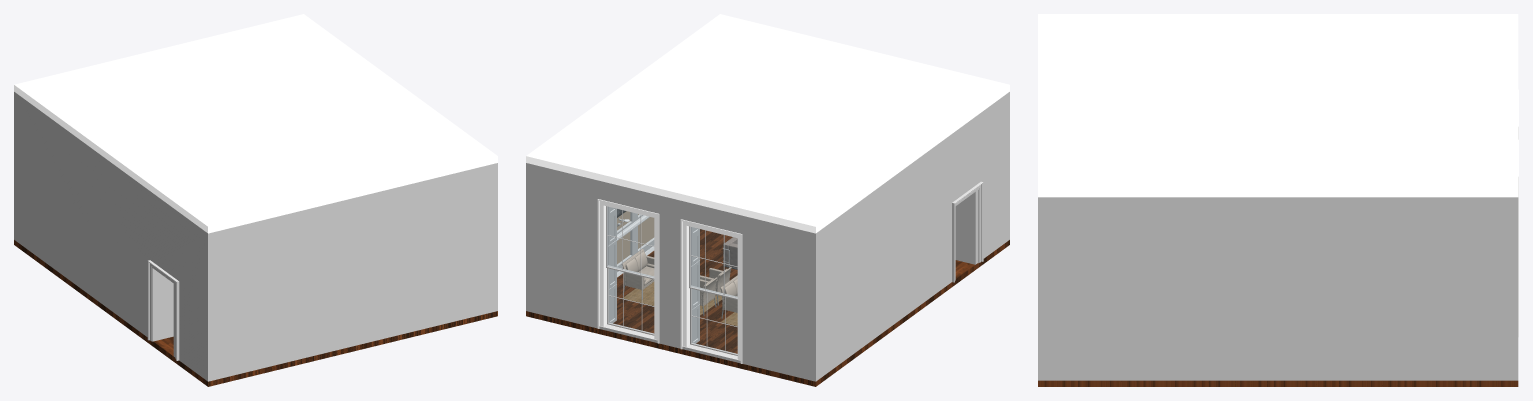
Rendered from habitacion.glb.
The picture shows the model from 3 angles, left to right: view 1: azimuth 30°, elevation 25°; view 2: azimuth 150°, elevation 25°; view 3: azimuth 270°, elevation 25°; orthographic projection. The views are drawn at different scales.
Visible parts, largest first — view 1: wall, ceiling, Box02, door frame02; view 2: ceiling, wall, win05, win06, Box02, door frame02, Box5038, Box5039, Box5036, Box08; view 3: wall, ceiling, Box02.
Part boxes in pixels (x1=…): wall: x1=14, y1=92, x2=497, y2=381; ceiling: x1=14, y1=14, x2=497, y2=233; Box02: x1=14, y1=240, x2=497, y2=386; door frame02: x1=147, y1=260, x2=179, y2=360; ceiling: x1=526, y1=14, x2=1009, y2=233; wall: x1=526, y1=92, x2=1009, y2=381; win05: x1=597, y1=199, x2=659, y2=343; win06: x1=680, y1=219, x2=742, y2=363; Box02: x1=526, y1=229, x2=1009, y2=386; door frame02: x1=952, y1=181, x2=983, y2=282; Box5038: x1=621, y1=249, x2=654, y2=289; Box5039: x1=622, y1=281, x2=721, y2=315; Box5036: x1=720, y1=275, x2=737, y2=312; Box08: x1=723, y1=237, x2=737, y2=269; wall: x1=1038, y1=197, x2=1518, y2=380; ceiling: x1=1038, y1=14, x2=1518, y2=197; Box02: x1=1038, y1=380, x2=1518, y2=386.
Size of the model in its own units: 8.68 by 4.54 by 9.99.
Materials: 28 (7 with a texture image).
